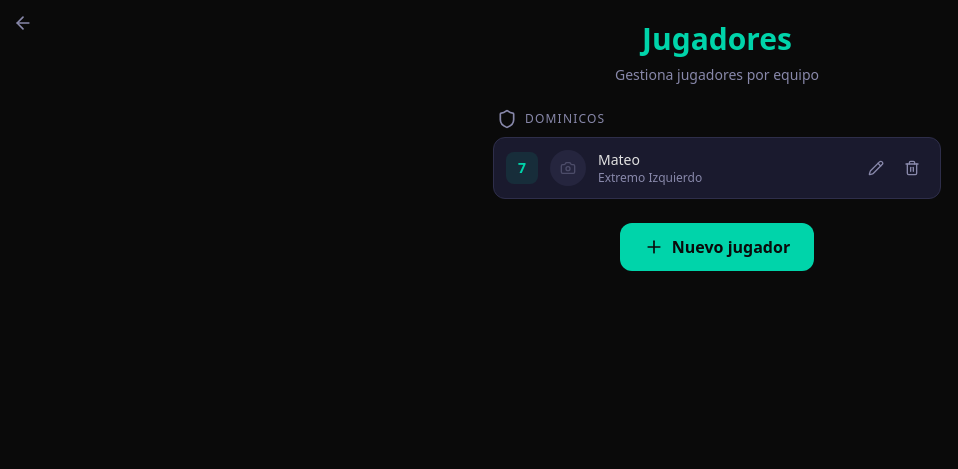
Test case: PlayersPage › shows edit form with pre-populated values when pencil icon is clicked
Step 1. Click the 2nd button → (876, 168), box [860, 152, 892, 184]
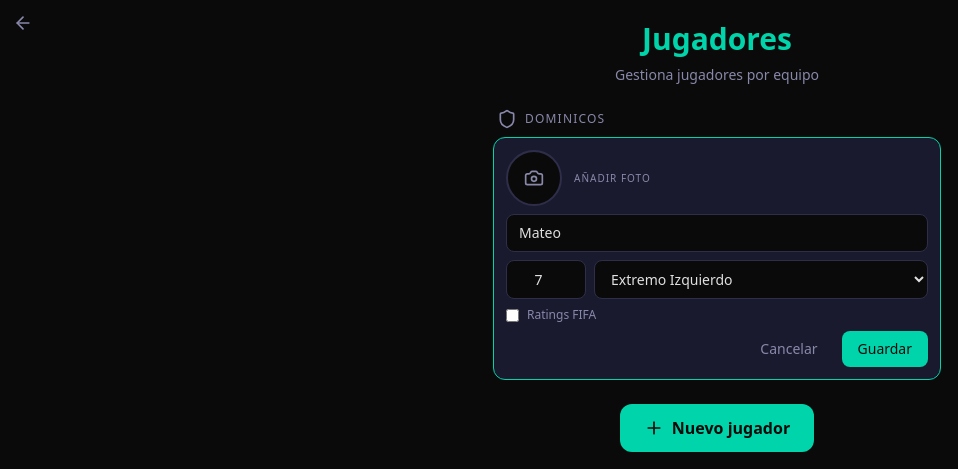
Expected: the field showing "Mateo" is shown, [506, 214, 928, 252]
Expected: the number field showing "7" is shown, [506, 260, 586, 299]
